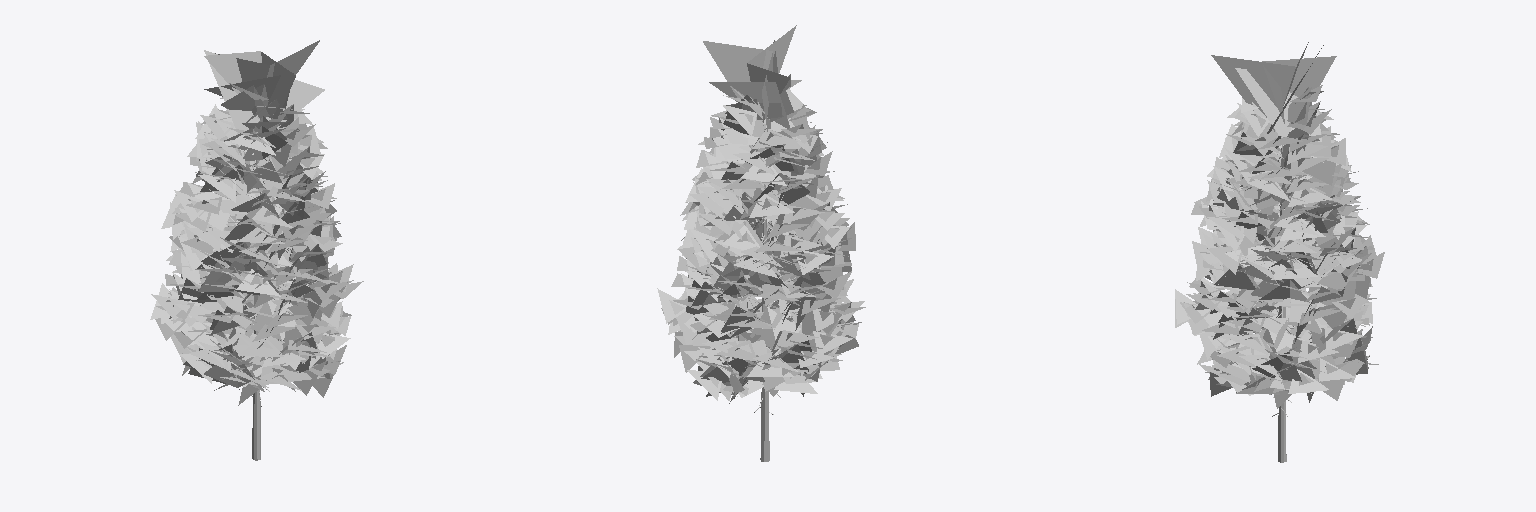
The model's file is tree2.obj.
3 views of the same model, side by side, from view 1: azimuth 30°, elevation 25°; view 2: azimuth 150°, elevation 25°; view 3: azimuth 270°, elevation 25° (orthographic).
Parts seen in each view (by area): view 1: Object_5, Object_4; view 2: Object_5, Object_4; view 3: Object_5, Object_4.
Part boxes in pixels (bbox=[...]): Object_5: bbox=[150, 40, 363, 405]; Object_4: bbox=[207, 159, 300, 460]; Object_5: bbox=[657, 25, 865, 403]; Object_4: bbox=[716, 184, 797, 461]; Object_5: bbox=[1175, 42, 1384, 408]; Object_4: bbox=[1229, 145, 1323, 462].
Size of the model in its own units: 8.22 by 17.62 by 8.25.